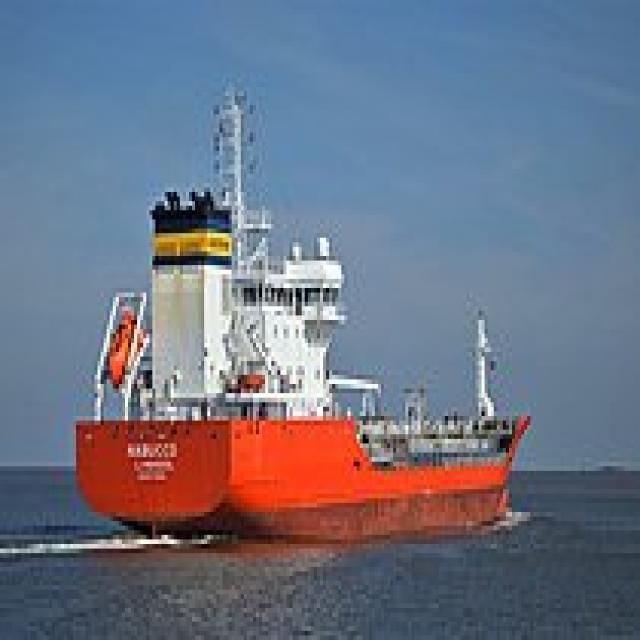Tanker: (70, 73, 533, 540)
